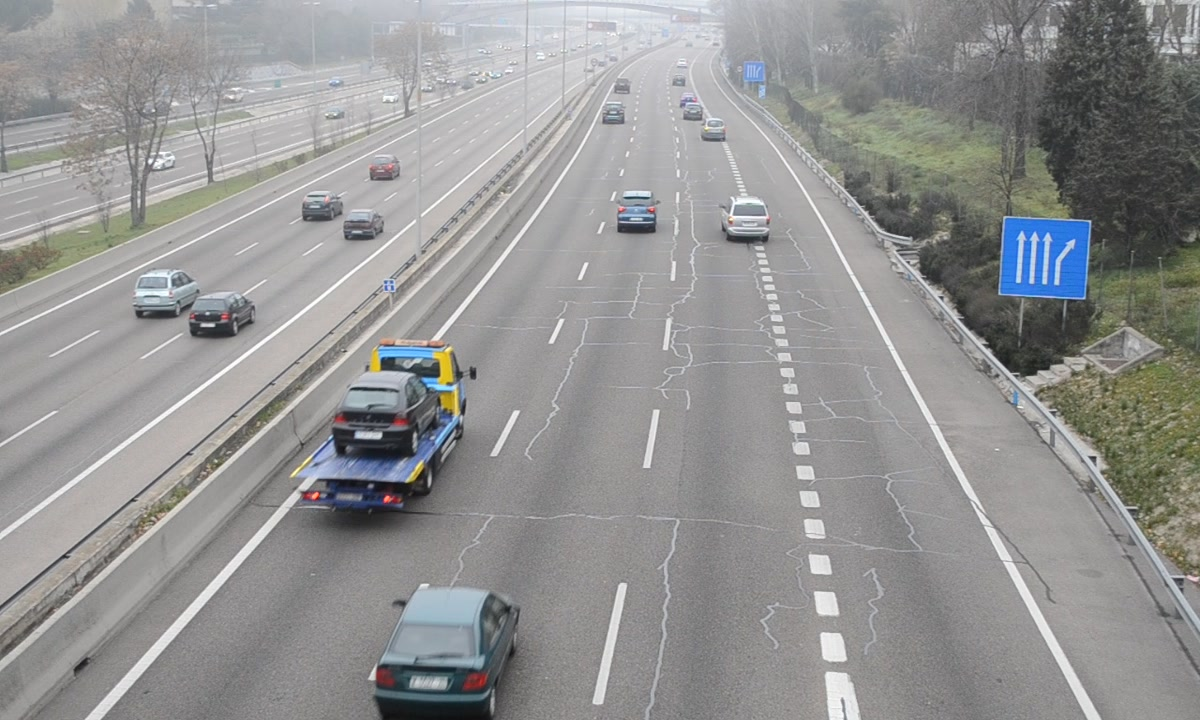car: (375, 588, 516, 711), (723, 196, 771, 242), (616, 190, 657, 229), (701, 117, 725, 143), (601, 101, 623, 126)
small-truck: (290, 340, 466, 512)
